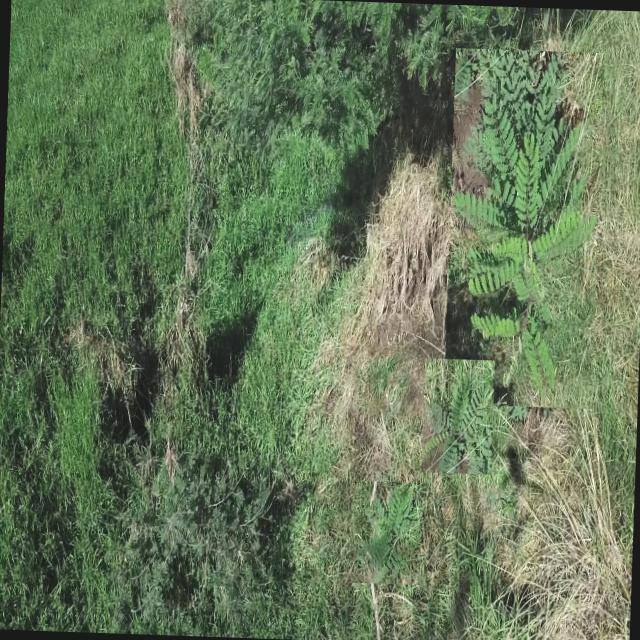Mysore-Thorn-Weed: (443, 48, 604, 408), (348, 480, 431, 585), (420, 358, 494, 474)
